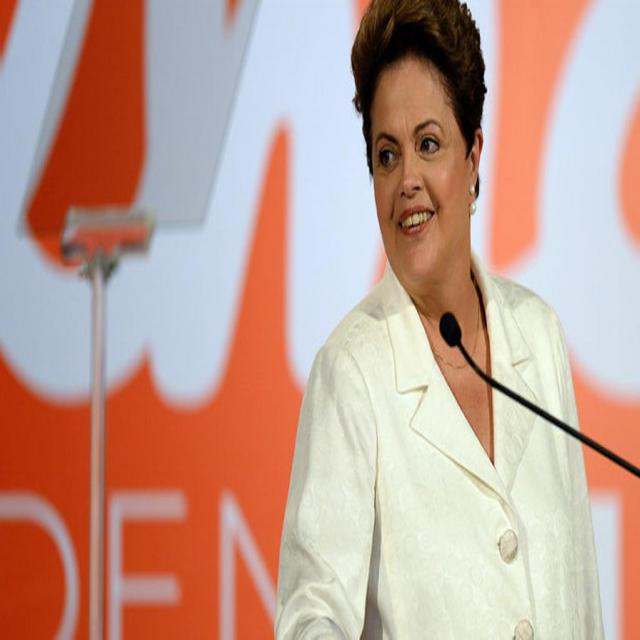nomask: (370, 91, 465, 288)
